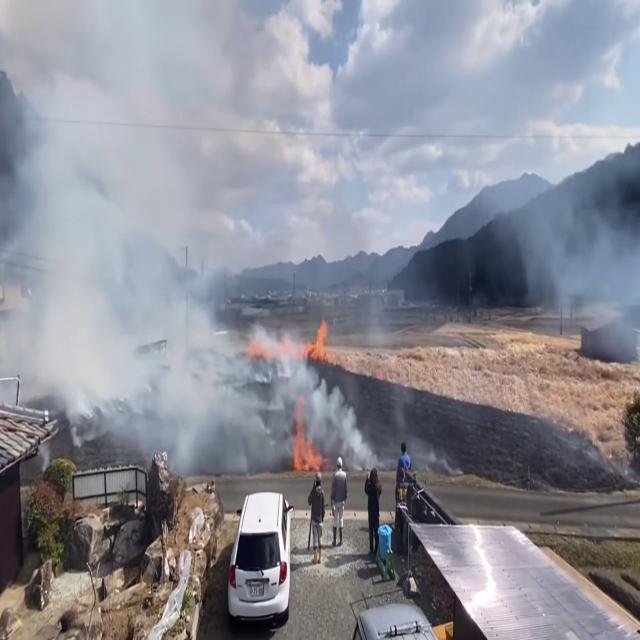Fire: (288, 404, 326, 473), (308, 311, 332, 366)
Smoke: (0, 4, 366, 480), (511, 150, 640, 352)
